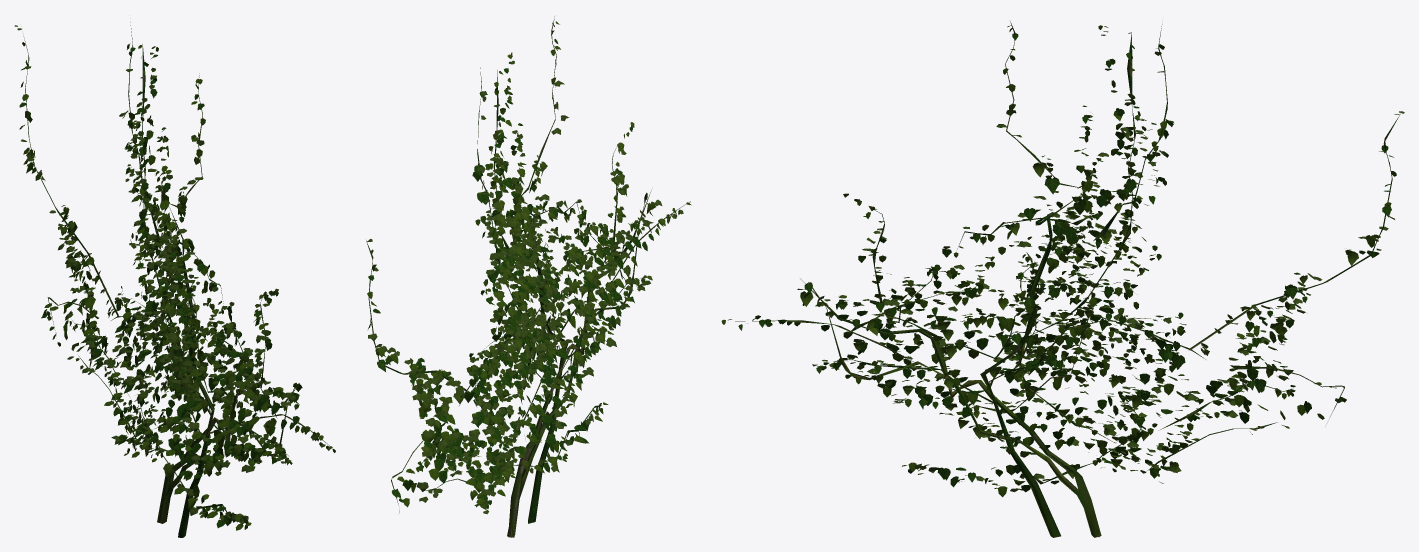
The model's file is SM_IvyBig.fbx.
The picture shows the model from 3 angles, left to right: view 1: azimuth 30°, elevation 25°; view 2: azimuth 150°, elevation 25°; view 3: azimuth 270°, elevation 25°; orthographic projection. The views are drawn at different scales.
Visible parts, largest first — view 1: SM_IvyBig_LOD0; view 2: SM_IvyBig_LOD0; view 3: SM_IvyBig_LOD0.
Boxes of the visible parts, bbox=[...] form: SM_IvyBig_LOD0: bbox=[14, 22, 335, 537]; SM_IvyBig_LOD0: bbox=[366, 16, 691, 537]; SM_IvyBig_LOD0: bbox=[721, 21, 1404, 537].
Size of the model in its own units: 17.82 by 431 by 363.
